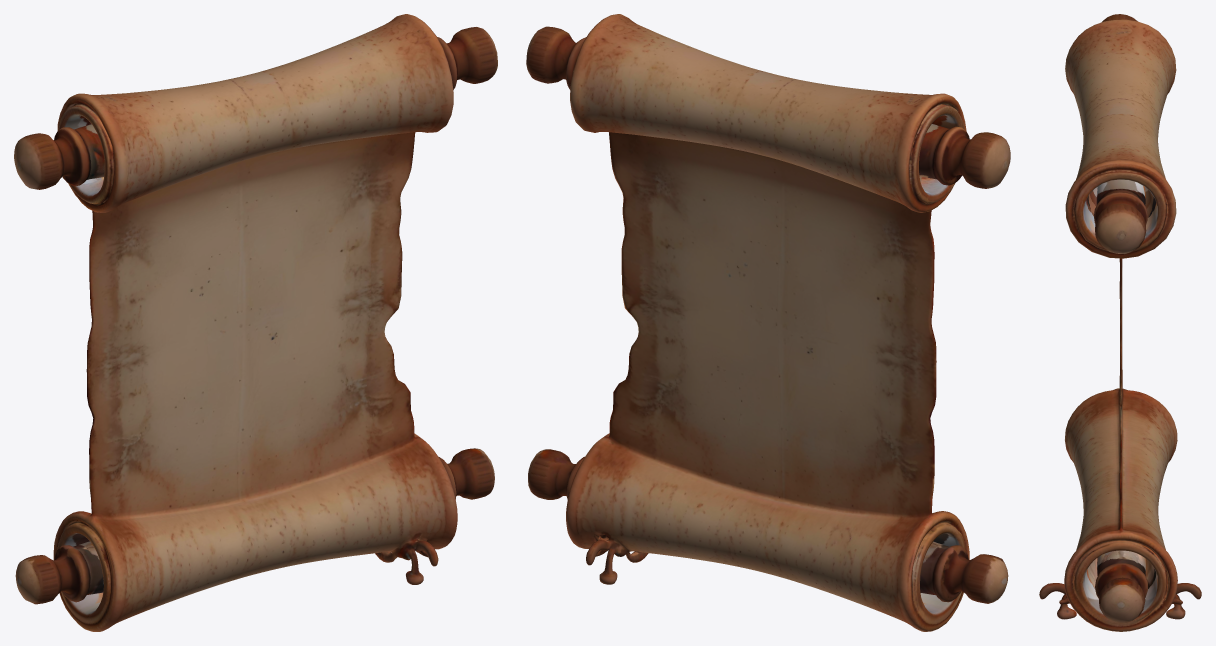
Rendered from scroll.fbx.
3 views of the same model, side by side, from view 1: azimuth 30°, elevation 25°; view 2: azimuth 150°, elevation 25°; view 3: azimuth 270°, elevation 25° (orthographic). The views are drawn at different scales.
Visible parts, largest first — view 1: tripo_node_50e0d181; view 2: tripo_node_50e0d181; view 3: tripo_node_50e0d181.
Boxes of the visible parts, bbox=[...] form: tripo_node_50e0d181: bbox=[14, 14, 497, 631]; tripo_node_50e0d181: bbox=[526, 14, 1010, 631]; tripo_node_50e0d181: bbox=[1039, 14, 1201, 631].
Size of the model in its own units: 93.22 by 99.89 by 31.1.
Materials: 1 (1 with a texture image).
